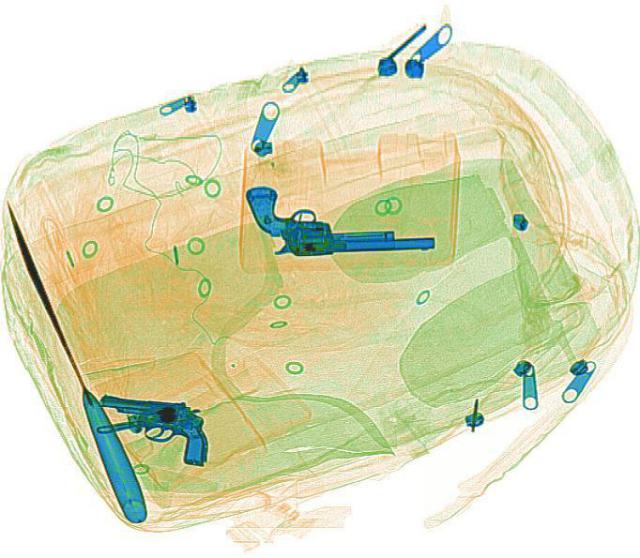Gun: (243, 178, 434, 257), (85, 387, 219, 464)
Knife: (0, 213, 153, 522)
